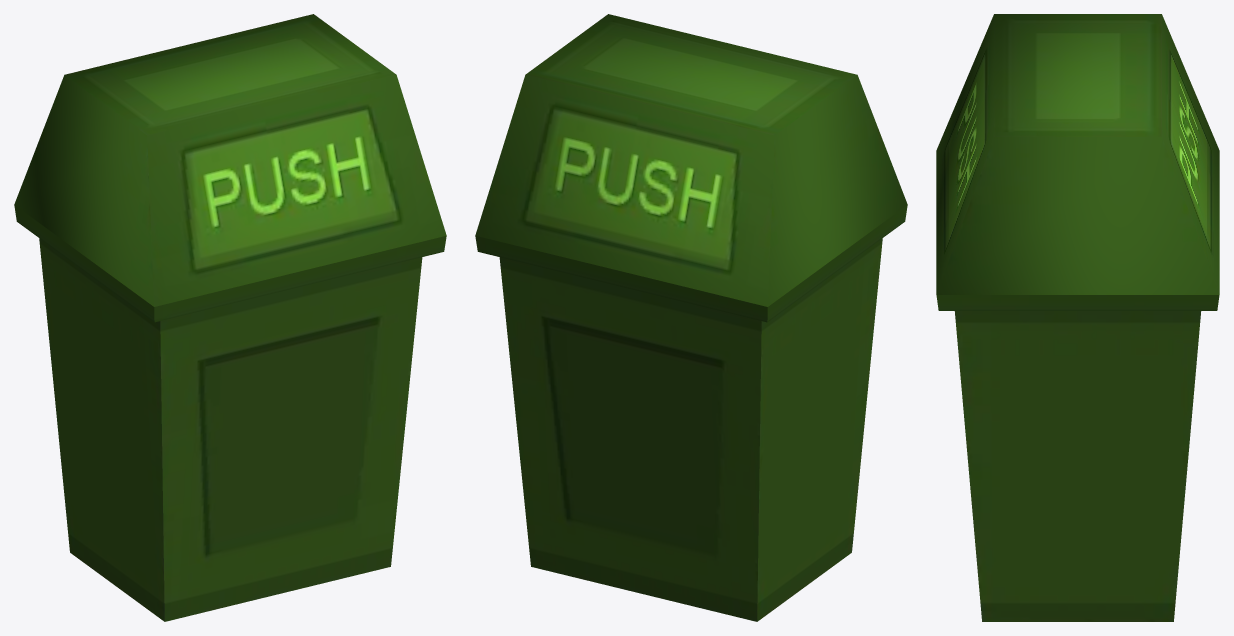
Rendered from city_bin.glb.
3 renders of one model, left to right at view 1: azimuth 30°, elevation 25°; view 2: azimuth 150°, elevation 25°; view 3: azimuth 270°, elevation 25°, orthographic.
Visible parts, largest first — view 1: city:polySurface244; view 2: city:polySurface244; view 3: city:polySurface244.
Boxes of the visible parts, x1,y1,x2,y2 form: city:polySurface244: (14,14,446,621); city:polySurface244: (475,14,907,621); city:polySurface244: (936,14,1219,621).
Size of the model in its own units: 0.7097 by 1.12 by 0.588.
1 material, 1 textured.
